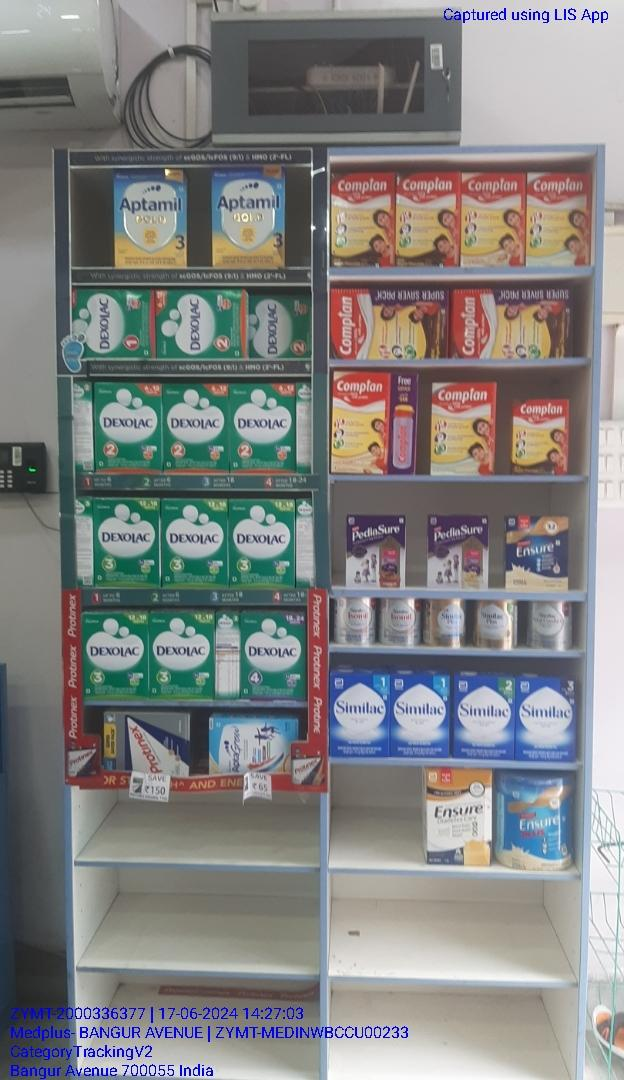COMPLAN_CHOCOLATE_200_GMS_PACK: (513, 399, 571, 478)
COMPLAN_CHOCOLATE_500_GMS_PACK: (331, 171, 398, 268), (400, 174, 459, 268)
COMPLAN_CREAMY_CLASSIC_500_G_PACK: (432, 383, 500, 477), (529, 170, 589, 269)
COMPLAN_KESAR_BADAM_500_GMS_PACK: (460, 173, 523, 267)
ENSURE_VANILLA_400_G_PACK: (423, 769, 492, 865), (505, 513, 566, 593)
PEDIASURE_CHOCOLATE_500_G_PACK: (344, 514, 406, 587)
PEDIASURE_VANILLA_500_G_PACK: (425, 517, 490, 588)
